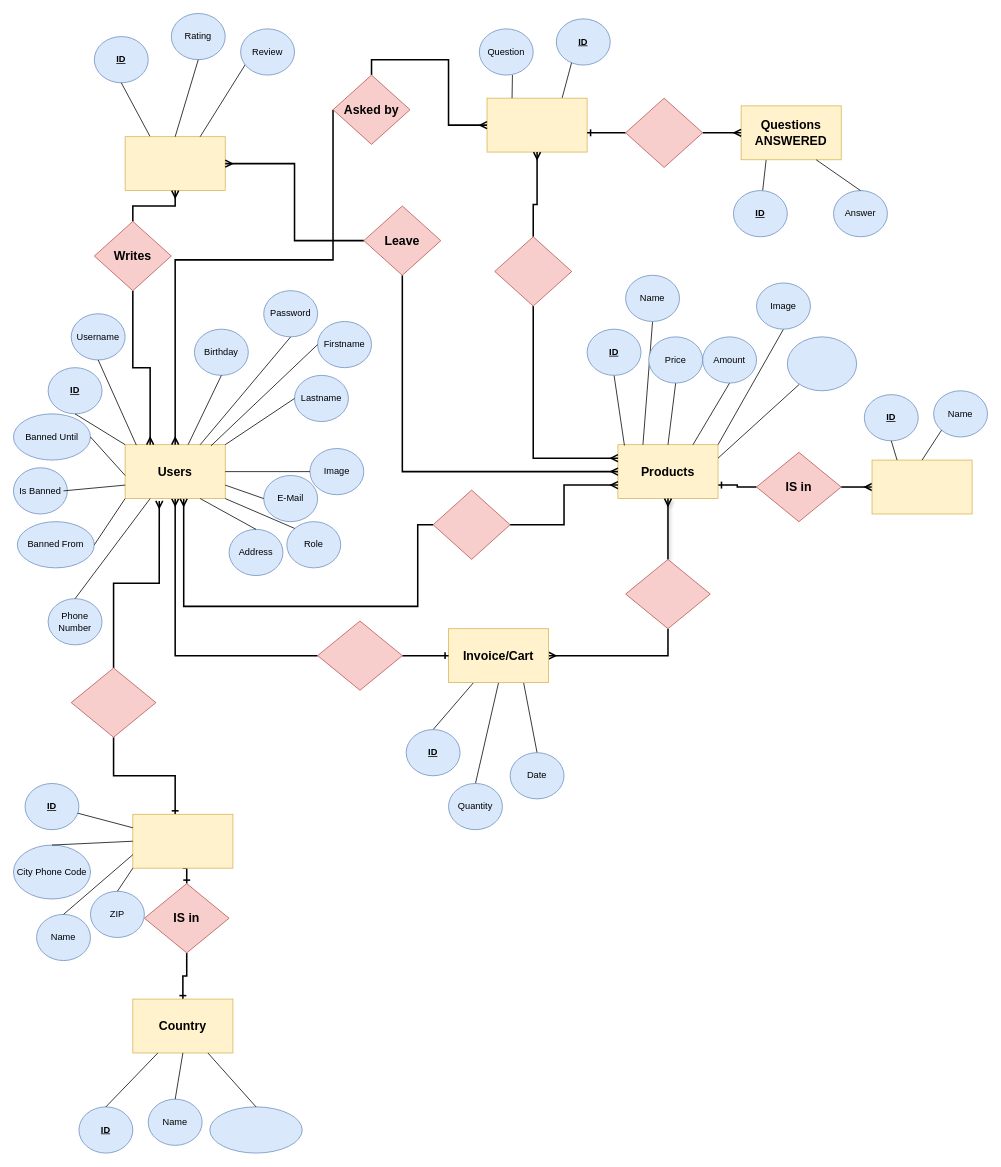
This 1001x1167 diagram has some shape labels left out. The centre of each missing label's shape, as x and y in pixels:
"Area Code Phone" goes at point 255,1129.
"Can have" goes at point 667,594.
"Can Sell" goes at point 471,524.
"Categories" goes at point 921,486.
"City" goes at point 182,841.
"For" goes at point 533,271.
"Has" goes at point 359,655.
"Has been" goes at point 664,132.
"Hidden Field?" goes at point 822,363.
"Live in" goes at point 113,702.
"Questions ASKED" goes at point 536,124.
"Reviews" goes at point 174,163.
